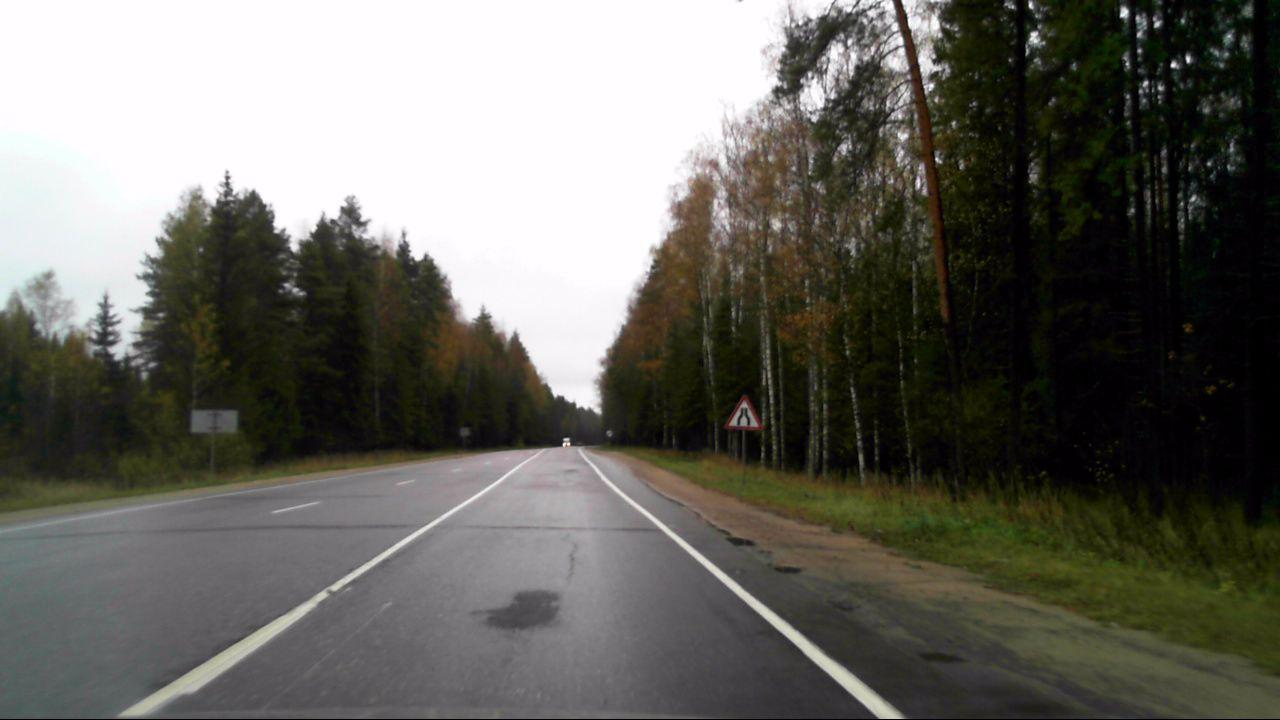1_20_1: (724, 392, 762, 430)
